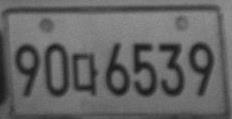0: (43, 42, 69, 97)
3: (159, 43, 185, 96)
5: (133, 42, 157, 95)
6: (104, 42, 130, 96)
9: (14, 42, 40, 97), (188, 42, 214, 95)
다: (70, 52, 99, 96)
